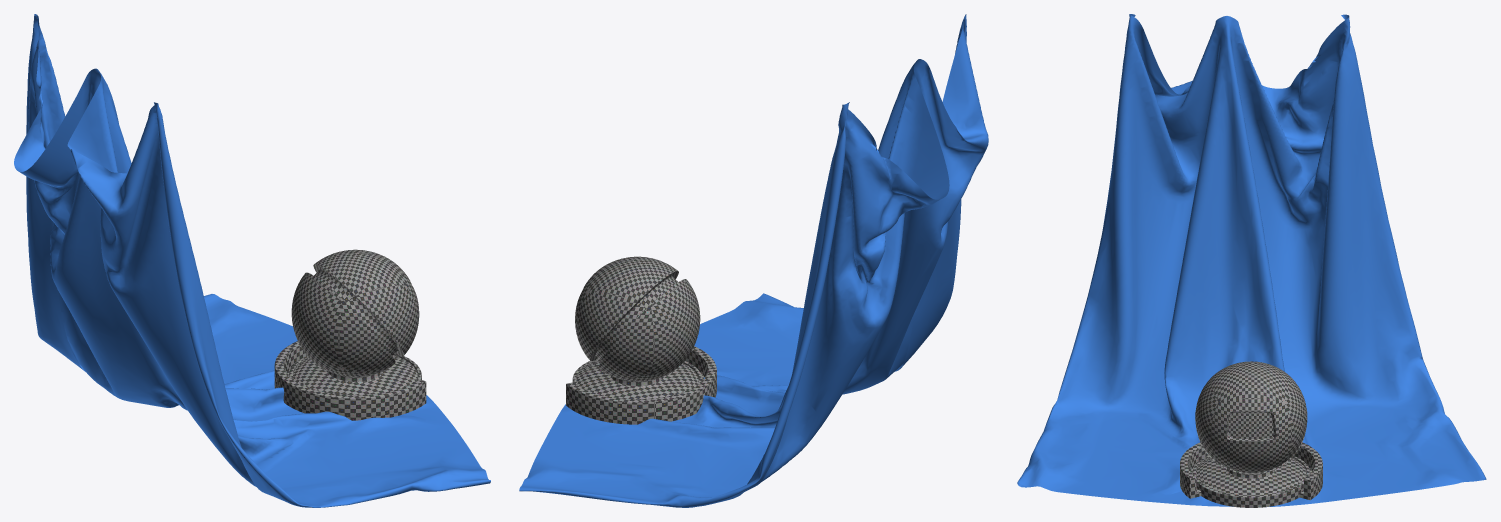
File: orb.glb
3 views of the same model, side by side, from view 1: azimuth 30°, elevation 25°; view 2: azimuth 150°, elevation 25°; view 3: azimuth 270°, elevation 25° (orthographic). The views are drawn at different scales.
Parts seen in each view (by area): view 1: Plane.001, Cube, Cylinder.001; view 2: Plane.001, Cube, Cylinder.001; view 3: Plane.001, Cube, Cylinder.001.
Part boxes in pixels (bbox=[...]): Plane.001: bbox=[14, 14, 490, 507]; Cube: bbox=[291, 249, 419, 377]; Cylinder.001: bbox=[274, 341, 426, 420]; Plane.001: bbox=[519, 14, 988, 507]; Cube: bbox=[575, 256, 700, 381]; Cylinder.001: bbox=[566, 346, 716, 424]; Plane.001: bbox=[1017, 14, 1486, 507]; Cube: bbox=[1195, 361, 1307, 474]; Cylinder.001: bbox=[1180, 442, 1322, 507].
Bounding box in the file's own units: 8.72 × 8.74 × 10.43.
2 materials, 1 textured.
